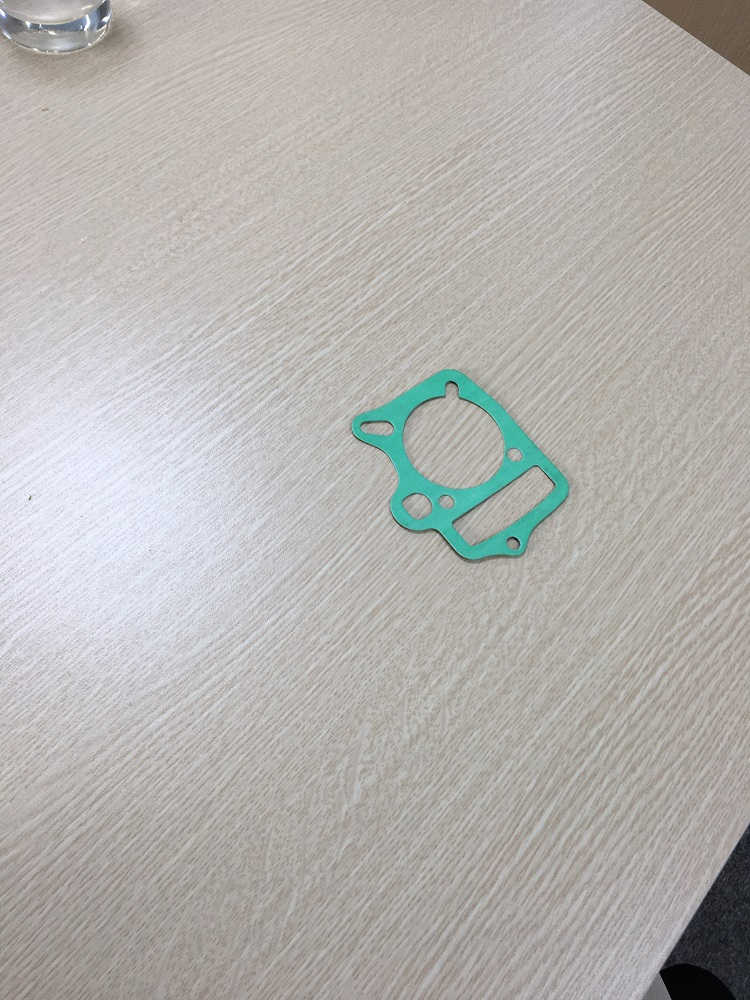circle 1: (392, 362, 509, 498)
circle 2: (380, 481, 441, 530)
circle 3: (347, 400, 404, 451)
circle 4: (494, 438, 528, 464)
circle 5: (498, 530, 532, 566)
circle 6: (438, 459, 576, 556)
object: (318, 334, 630, 640)
